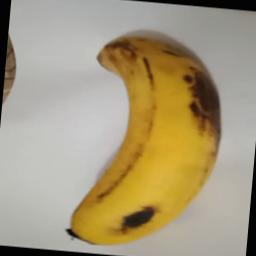Banana Unripe: (60, 26, 230, 254)
